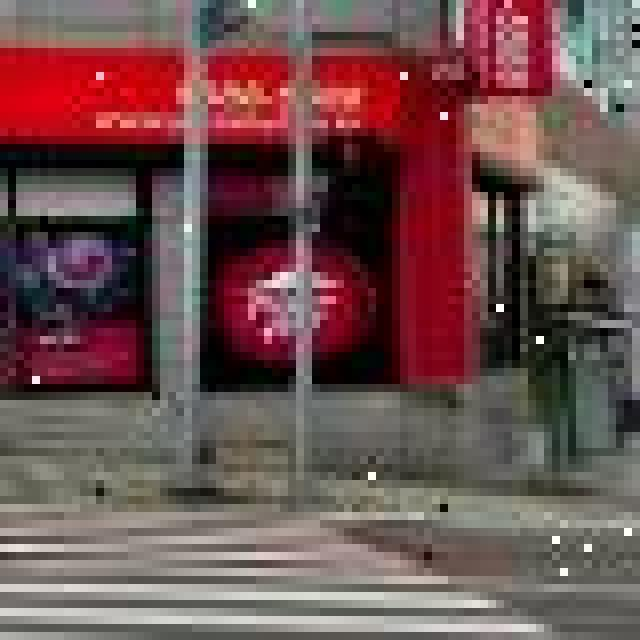crosswalk: (0, 512, 544, 632)
